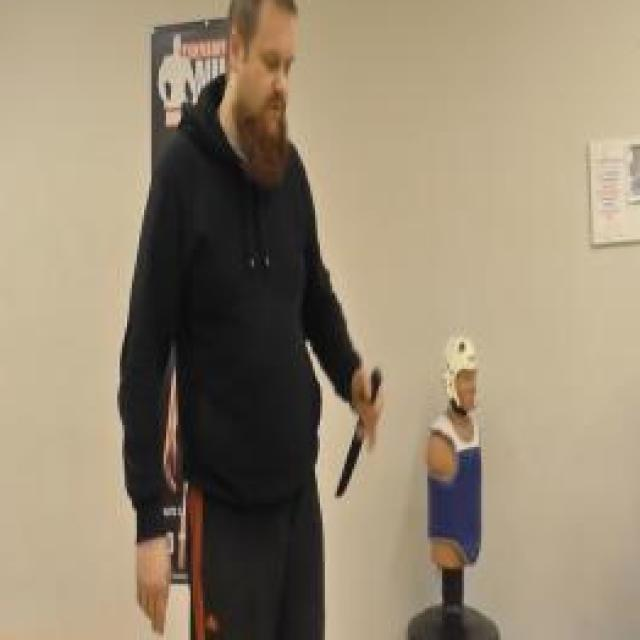knife: (332, 362, 386, 506)
